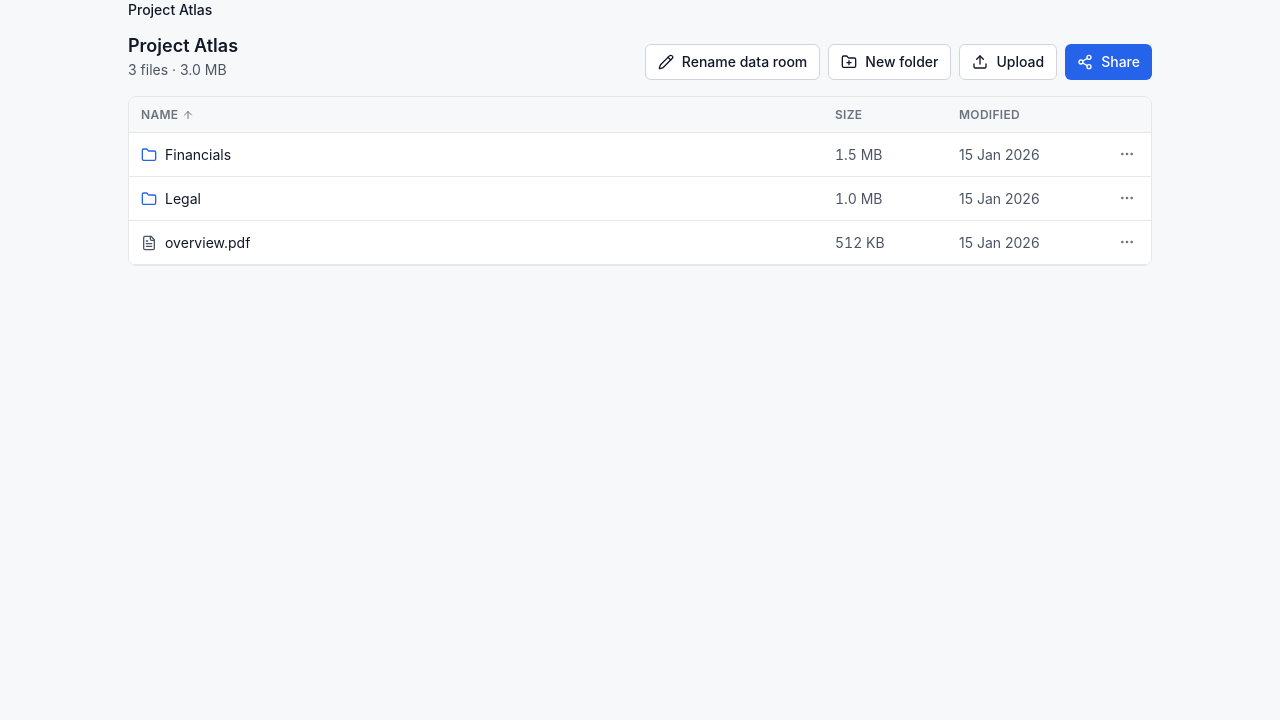
Test: DeleteConfirmDialog › deletes after confirmation and removes the row
Expected: the button "Financials" is shown, [141,144,231,164]
Click the button named "Actions for Financials" at point(1127, 154), box [1115,142,1139,166]
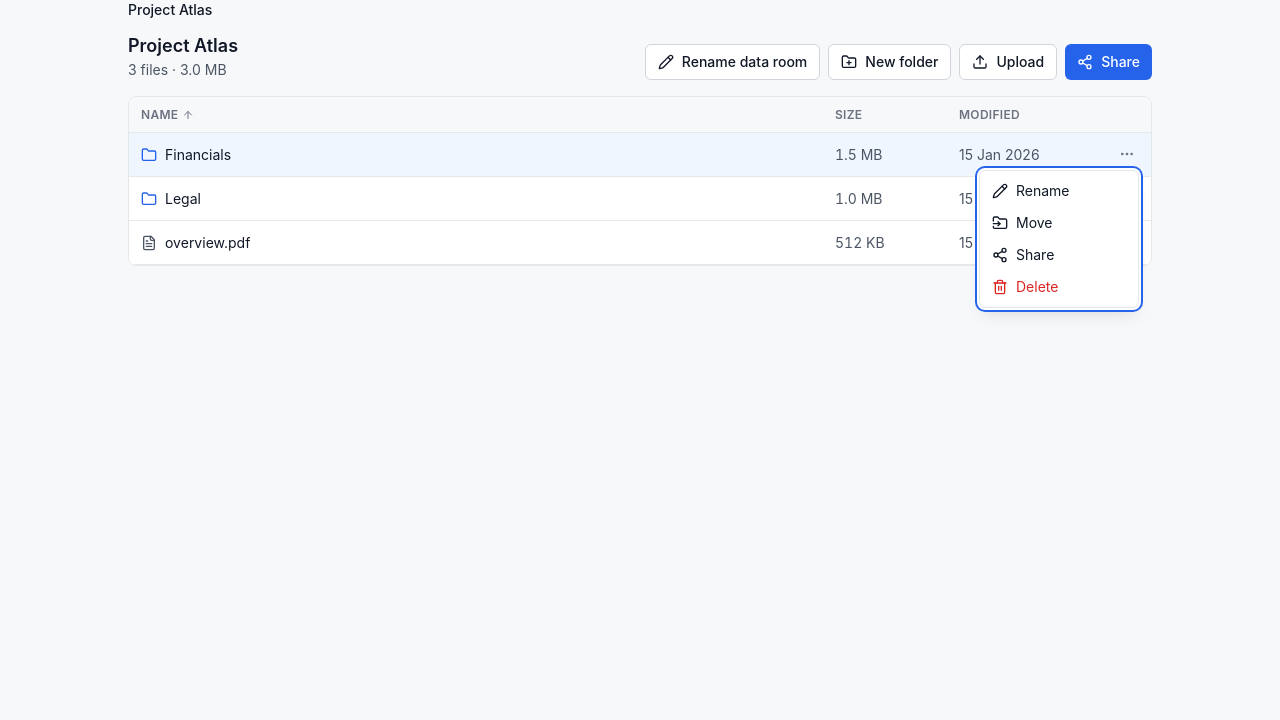
Click the menu item "Delete" at point(1025, 286), box [992,278,1058,295]
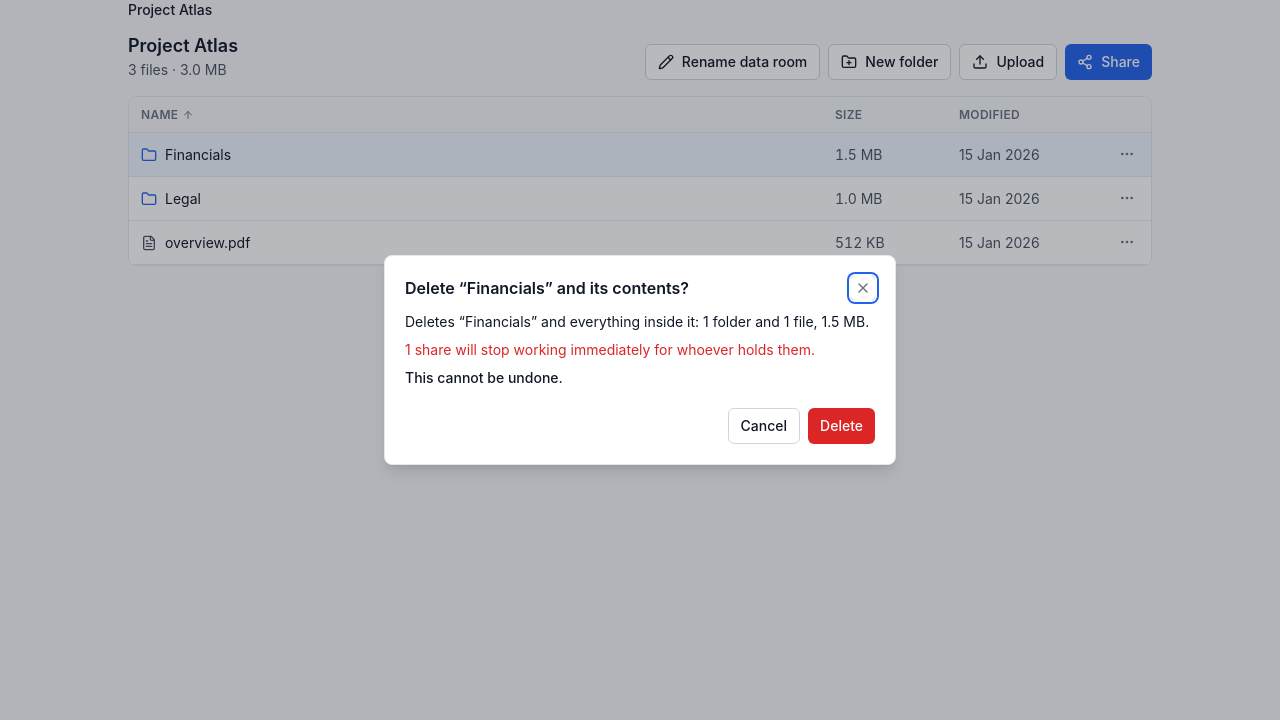
Expected: the button "Delete" is enabled
Click the button "Delete" at point(842, 426), box [808,408,875,444]
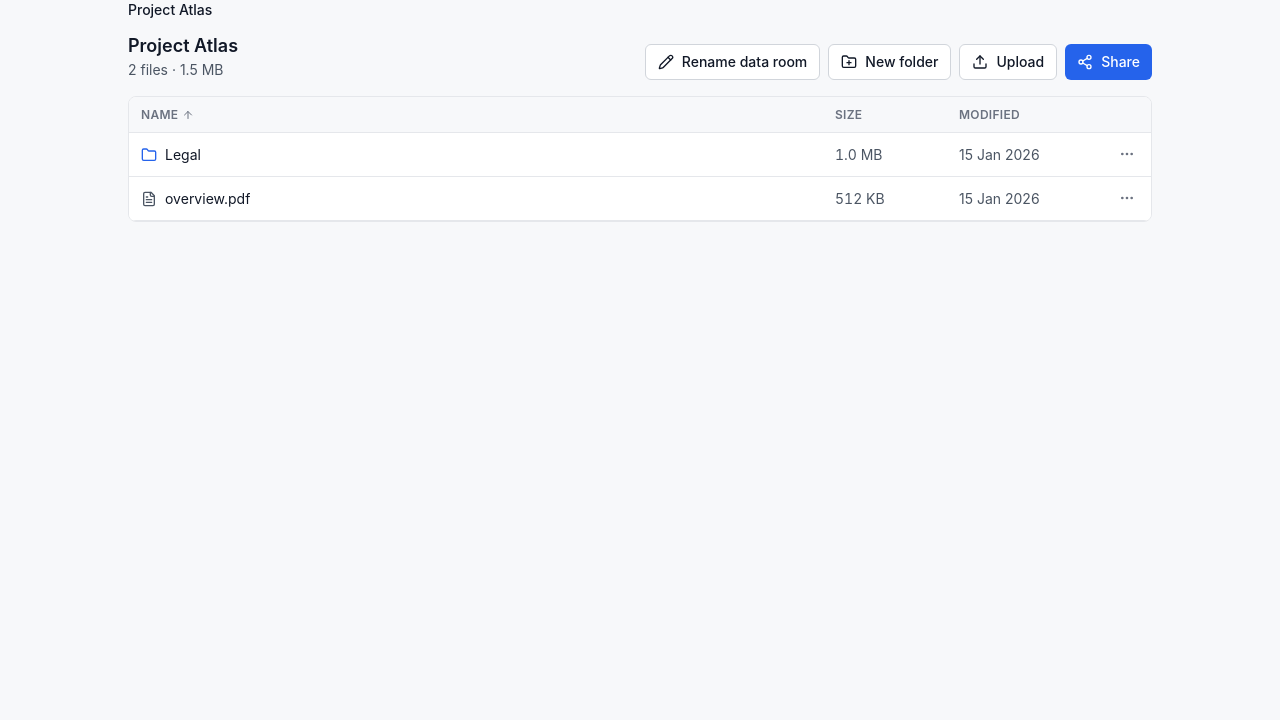
Expected: the dialog is gone
Expected: the button "Financials" is gone
Expected: the button "Financials" no longer shows "Financials"
